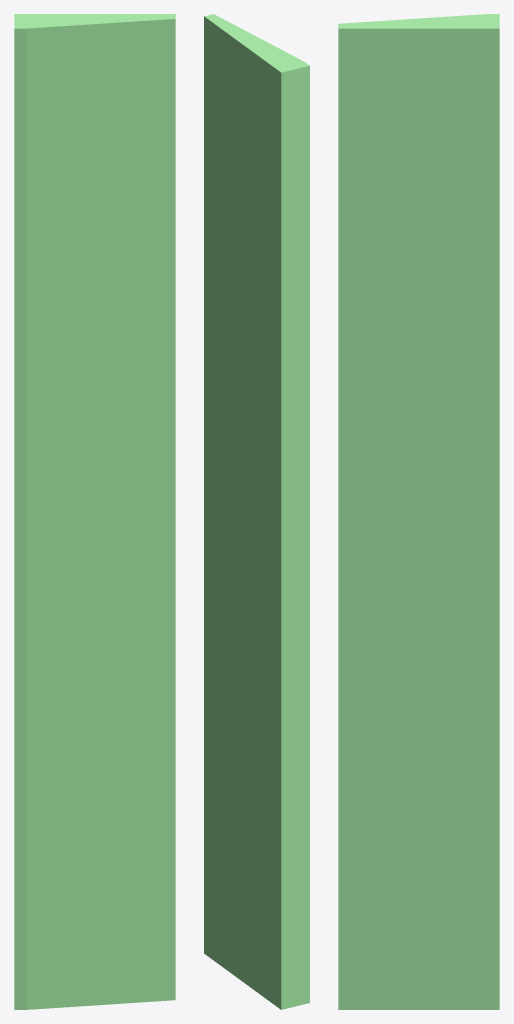
Rendered from palle_scrotali_buone_robot_base_coll_12.dae.
3 views of the same model, side by side, from view 1: azimuth 90°, elevation 25°; view 2: azimuth 210°, elevation 25°; view 3: azimuth 270°, elevation 25° (orthographic). The views are drawn at different scales.
Parts seen in each view (by area): view 1: Node_000002334E246960; view 2: Node_000002334E246960; view 3: Node_000002334E246960.
Boxes of the visible parts, x1,y1,x2,y2 form: Node_000002334E246960: (14,14,175,1009); Node_000002334E246960: (204,14,309,1009); Node_000002334E246960: (338,14,499,1009).
Size of the model in its own units: 0.0301 by 0.94 by 0.14.
